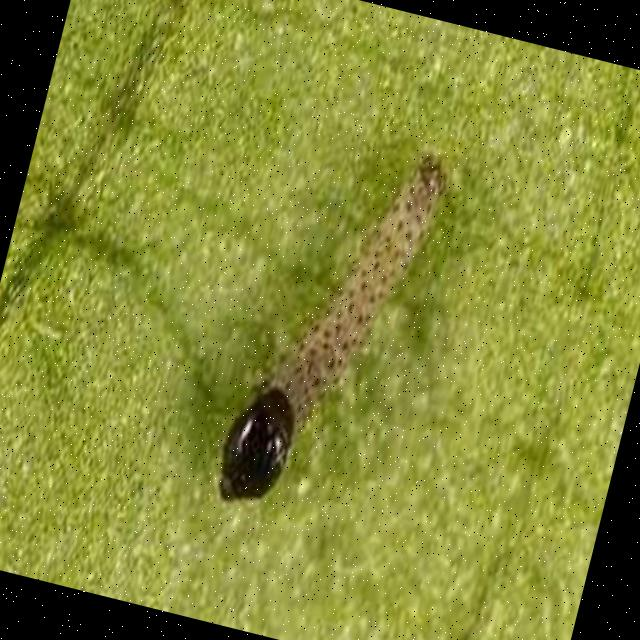worm: (212, 121, 458, 535)
